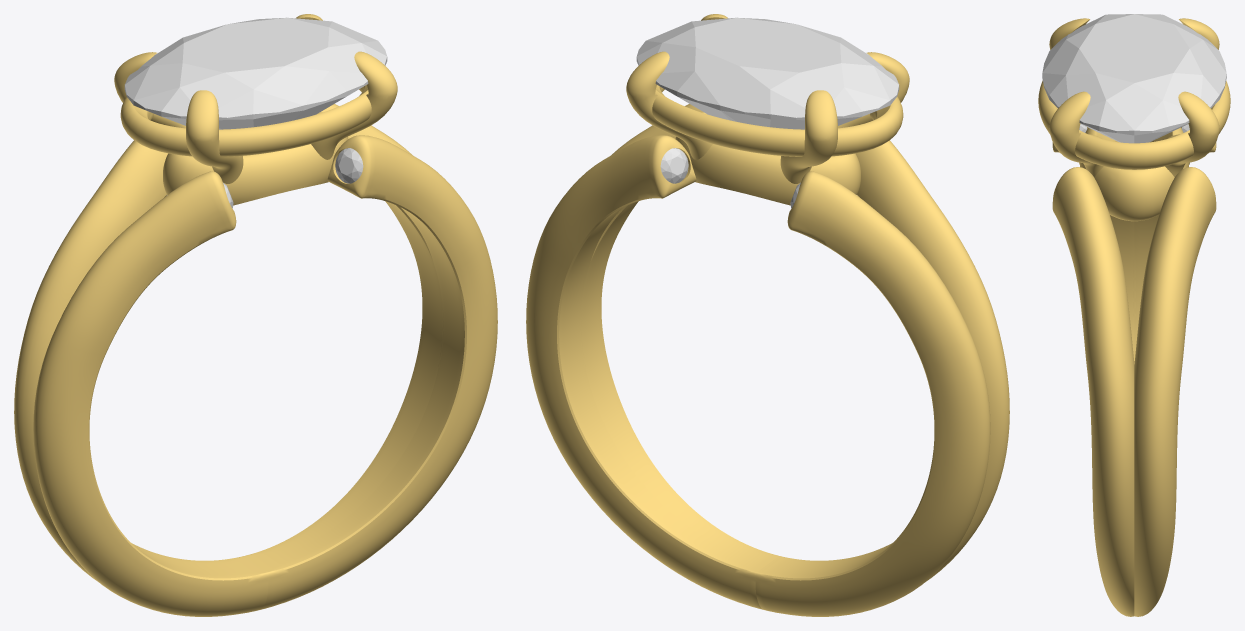
The model's file is JonathanV4eng_blender.glb.
3 renders of one model, left to right at view 1: azimuth 30°, elevation 25°; view 2: azimuth 150°, elevation 25°; view 3: azimuth 270°, elevation 25°, orthographic. The views are drawn at different scales.
Visible parts, largest first — view 1: V4 Jonathan YG for 3d model, V3 Jonathan dia for 3d model.004, V3 Jonathan dia for 3d model.002; view 2: V4 Jonathan YG for 3d model, V3 Jonathan dia for 3d model.004, V3 Jonathan dia for 3d model.001; view 3: V4 Jonathan YG for 3d model, V3 Jonathan dia for 3d model.004.
Part boxes in pixels (box(x1,y1,x2,y2)): V4 Jonathan YG for 3d model: box(14, 14, 497, 616); V3 Jonathan dia for 3d model.004: box(124, 17, 387, 129); V3 Jonathan dia for 3d model.002: box(335, 148, 363, 183); V4 Jonathan YG for 3d model: box(526, 14, 1009, 616); V3 Jonathan dia for 3d model.004: box(636, 17, 899, 129); V3 Jonathan dia for 3d model.001: box(660, 148, 688, 183); V4 Jonathan YG for 3d model: box(1038, 18, 1230, 616); V3 Jonathan dia for 3d model.004: box(1042, 14, 1226, 143).
Bounding box in the file's own units: 19.29 × 22.57 × 7.22.
